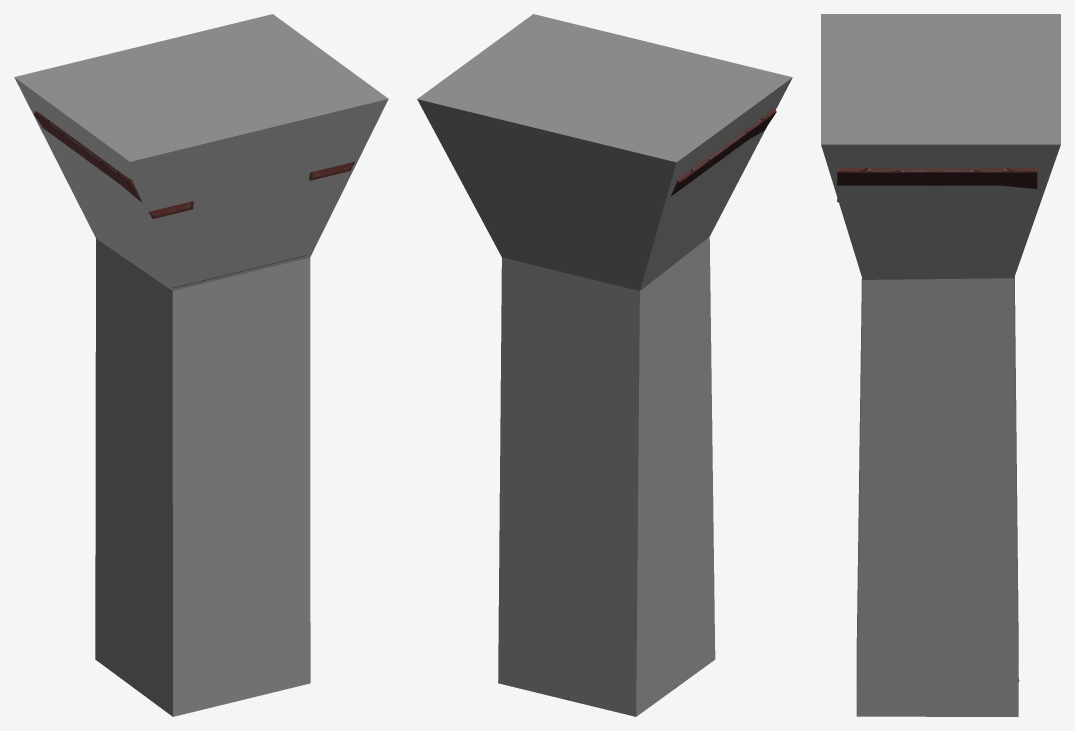
File: fb_jjc_jz_02_d.FBX
3 renders of one model, left to right at view 1: azimuth 30°, elevation 25°; view 2: azimuth 150°, elevation 25°; view 3: azimuth 270°, elevation 25°, orthographic. The views are drawn at different scales.
Parts seen in each view (by area): view 1: col_fb_jjc_jz_02_d, fb_jjc_jz_02_c; view 2: col_fb_jjc_jz_02_d, fb_jjc_jz_02_c; view 3: col_fb_jjc_jz_02_d, fb_jjc_jz_02_c.
Boxes of the visible parts, <box> form: col_fb_jjc_jz_02_d: <box>14,14,388,716</box>; fb_jjc_jz_02_c: <box>34,111,354,687</box>; col_fb_jjc_jz_02_d: <box>417,14,792,716</box>; fb_jjc_jz_02_c: <box>567,108,776,700</box>; col_fb_jjc_jz_02_d: <box>821,14,1060,716</box>; fb_jjc_jz_02_c: <box>837,167,1037,681</box>.
Size of the model in its own units: 325 by 699 by 252.
